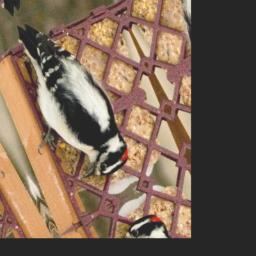Woodpecker: (0, 1, 136, 204)
